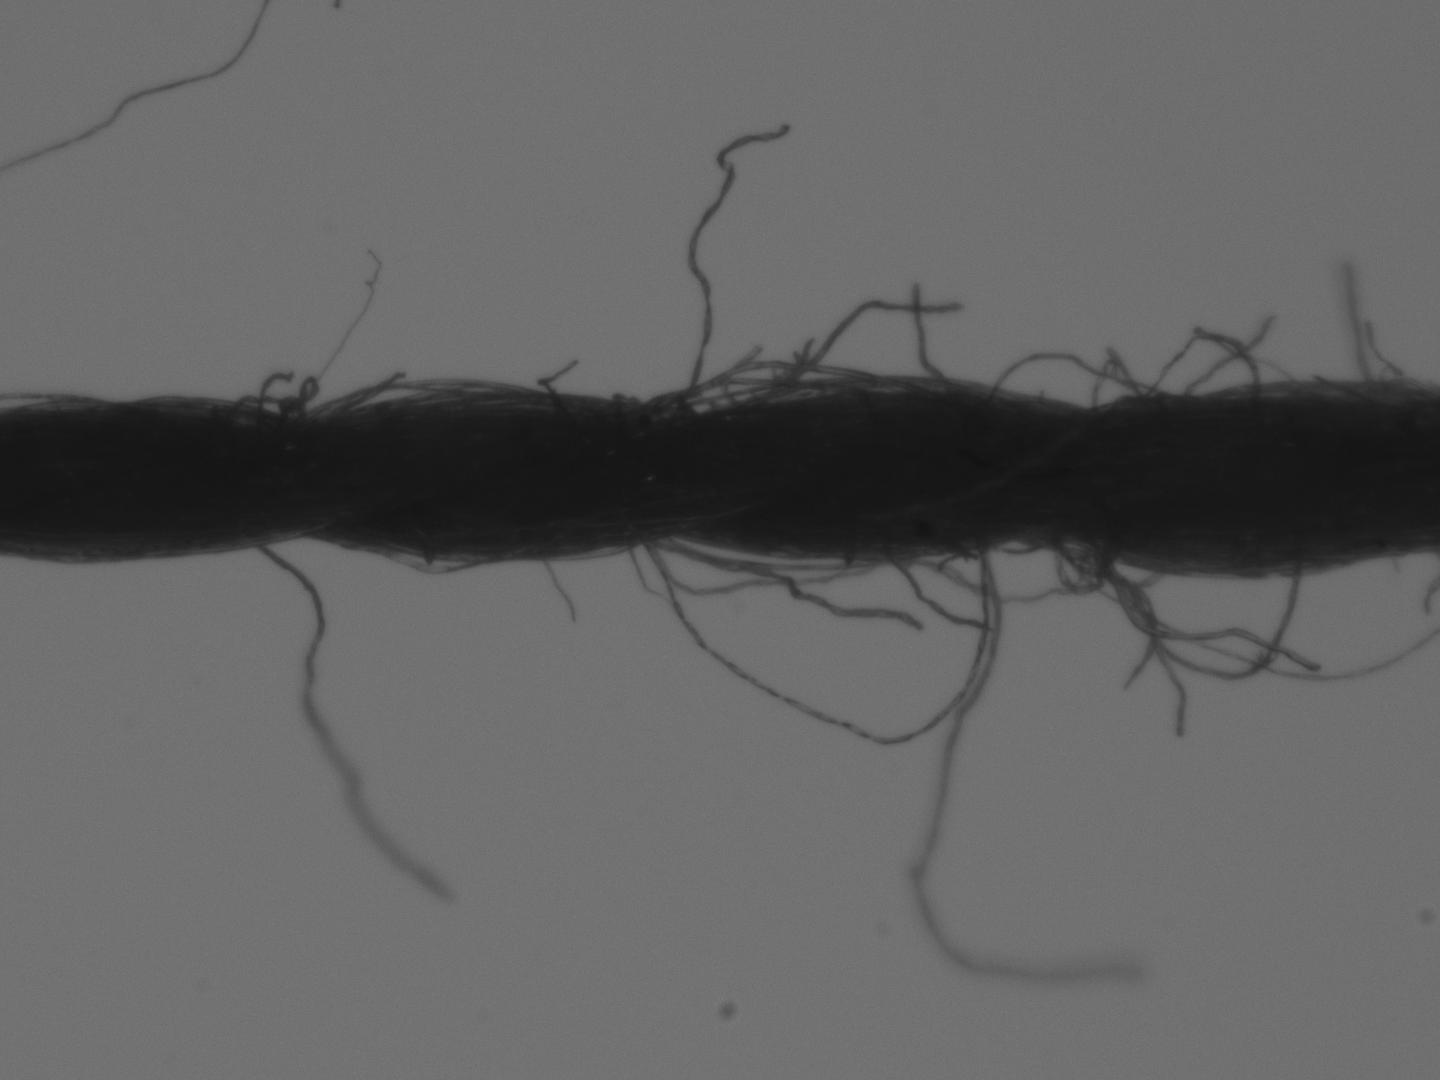loop_fiber: (642, 533, 993, 745), (1089, 538, 1303, 682), (644, 358, 917, 413), (988, 351, 1159, 404), (654, 542, 890, 575), (1153, 330, 1263, 396), (327, 377, 510, 411), (1058, 541, 1162, 587), (371, 543, 511, 575), (1051, 535, 1125, 596), (220, 373, 322, 416)
protruding_fiber: (254, 538, 447, 906), (910, 278, 946, 386)
